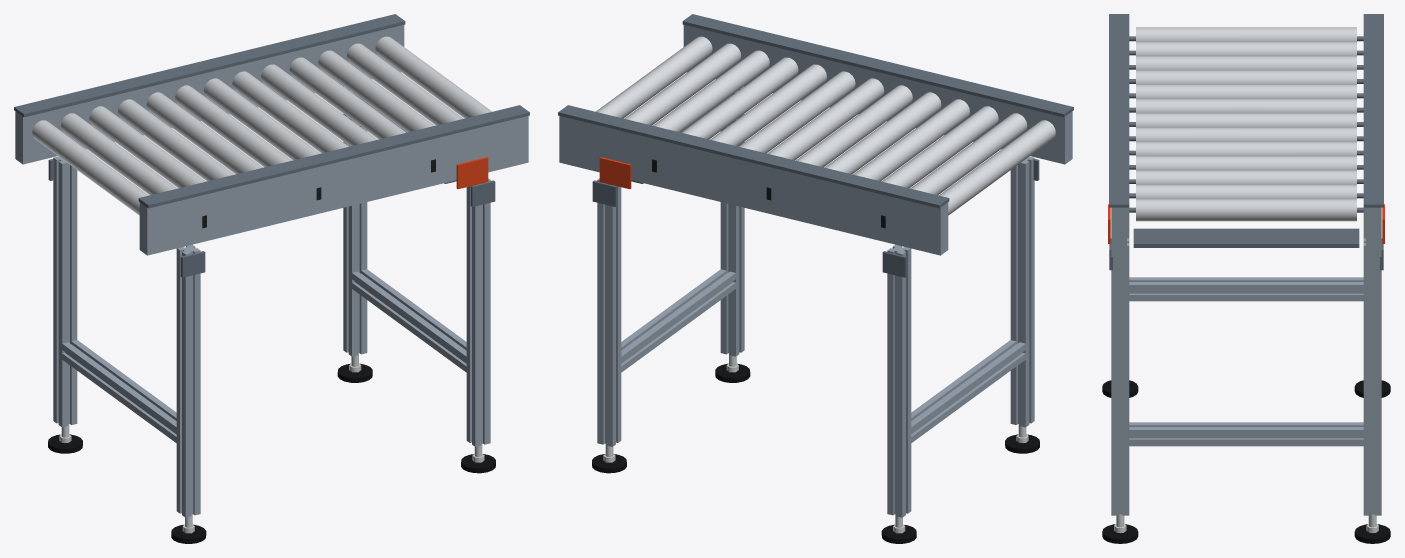
File: roller_conveyor_1m.glb
3 renders of one model, left to right at view 1: azimuth 30°, elevation 25°; view 2: azimuth 150°, elevation 25°; view 3: azimuth 270°, elevation 25°, orthographic. The views are drawn at different scales.
Visible parts, largest first — view 1: Conveyor_Frame_alu_anodised, Conveyor_Frame_alu_dark, Roller_01_steel_bright, Roller_06_steel_bright, Roller_11_steel_bright, Roller_03_steel_bright, Roller_09_steel_bright, Roller_12_steel_bright, Roller_04_steel_bright, Roller_05_steel_bright, Roller_07_steel_bright, Roller_02_steel_bright (+6 smaller); view 2: Conveyor_Frame_alu_anodised, Conveyor_Frame_alu_dark, Roller_01_steel_bright, Roller_06_steel_bright, Roller_11_steel_bright, Roller_03_steel_bright, Roller_09_steel_bright, Roller_12_steel_bright, Roller_04_steel_bright, Roller_05_steel_bright, Roller_07_steel_bright, Roller_02_steel_bright (+6 smaller); view 3: Conveyor_Frame_alu_anodised, Conveyor_Frame_alu_dark, Roller_13_steel_bright, Stopper_Mount_alu_dark, Roller_01_steel_bright, Roller_02_steel_bright, Roller_03_steel_bright, Roller_04_steel_bright, Roller_05_steel_bright, Roller_06_steel_bright, Roller_07_steel_bright, Roller_08_steel_bright (+6 smaller).
Boxes of the visible parts, x1=… form: Conveyor_Frame_alu_anodised: x1=15, y1=25, x2=528, y2=517; Conveyor_Frame_alu_dark: x1=14, y1=14, x2=529, y2=277; Roller_01_steel_bright: x1=32, y1=120, x2=148, y2=215; Roller_06_steel_bright: x1=175, y1=85, x2=291, y2=167; Roller_11_steel_bright: x1=318, y1=50, x2=434, y2=132; Roller_03_steel_bright: x1=89, y1=106, x2=205, y2=188; Roller_09_steel_bright: x1=261, y1=64, x2=377, y2=146; Roller_12_steel_bright: x1=347, y1=43, x2=463, y2=125; Roller_04_steel_bright: x1=118, y1=99, x2=234, y2=181; Roller_05_steel_bright: x1=146, y1=92, x2=263, y2=174; Roller_07_steel_bright: x1=203, y1=78, x2=320, y2=160; Roller_02_steel_bright: x1=60, y1=113, x2=177, y2=195; Conveyor_Frame_alu_anodised: x1=559, y1=25, x2=1072, y2=517; Conveyor_Frame_alu_dark: x1=558, y1=14, x2=1073, y2=277; Roller_01_steel_bright: x1=939, y1=120, x2=1055, y2=215; Roller_06_steel_bright: x1=796, y1=85, x2=912, y2=167; Roller_11_steel_bright: x1=653, y1=50, x2=769, y2=132; Roller_03_steel_bright: x1=882, y1=106, x2=998, y2=188; Roller_09_steel_bright: x1=710, y1=64, x2=826, y2=146; Roller_12_steel_bright: x1=624, y1=43, x2=740, y2=125; Roller_04_steel_bright: x1=853, y1=99, x2=969, y2=181; Roller_05_steel_bright: x1=824, y1=92, x2=941, y2=174; Roller_07_steel_bright: x1=767, y1=78, x2=884, y2=160; Roller_02_steel_bright: x1=910, y1=113, x2=1027, y2=195; Conveyor_Frame_alu_anodised: x1=1111, y1=207, x2=1381, y2=515; Conveyor_Frame_alu_dark: x1=1109, y1=14, x2=1383, y2=270; Roller_13_steel_bright: x1=1136, y1=199, x2=1356, y2=221; Stopper_Mount_alu_dark: x1=1133, y1=228, x2=1359, y2=247; Roller_01_steel_bright: x1=1136, y1=27, x2=1356, y2=41; Roller_02_steel_bright: x1=1136, y1=41, x2=1356, y2=55; Roller_03_steel_bright: x1=1136, y1=56, x2=1356, y2=70; Roller_04_steel_bright: x1=1136, y1=70, x2=1356, y2=84; Roller_05_steel_bright: x1=1136, y1=84, x2=1356, y2=98; Roller_06_steel_bright: x1=1136, y1=99, x2=1356, y2=113; Roller_07_steel_bright: x1=1136, y1=113, x2=1356, y2=127; Roller_08_steel_bright: x1=1136, y1=127, x2=1356, y2=141.
Bounding box in the file's own units: 1 × 0.868 × 0.64.
